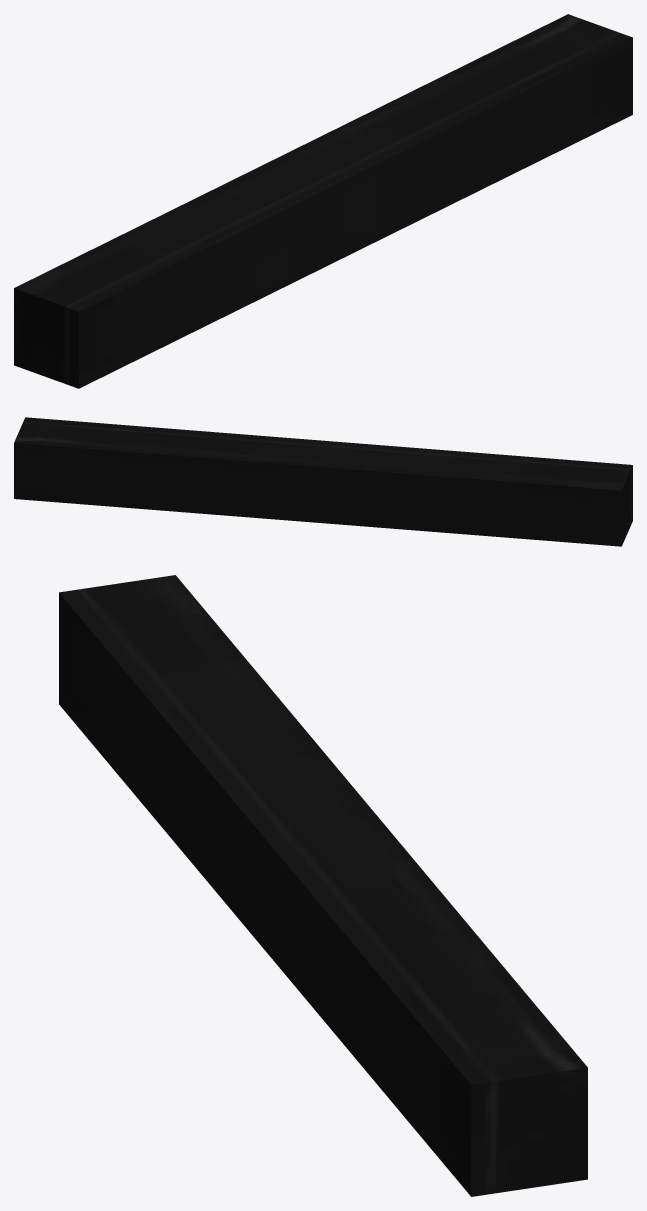
The model's file is backrest__back_mount_0.glb.
3 views of the same model, one above another, from view 1: azimuth 30°, elevation 25°; view 2: azimuth 150°, elevation 25°; view 3: azimuth 270°, elevation 25° (orthographic). The views are drawn at different scales.
Visible parts, largest first — view 1: world; view 2: world; view 3: world.
Boxes of the visible parts, box(x1,y1,x2,y2) form: world: box(14, 14, 632, 388); world: box(14, 417, 632, 546); world: box(59, 575, 587, 1196).
Bounding box in the file's own units: 0.2928 × 0.03 × 0.1283.
Materials: 1 (1 with a texture image).
